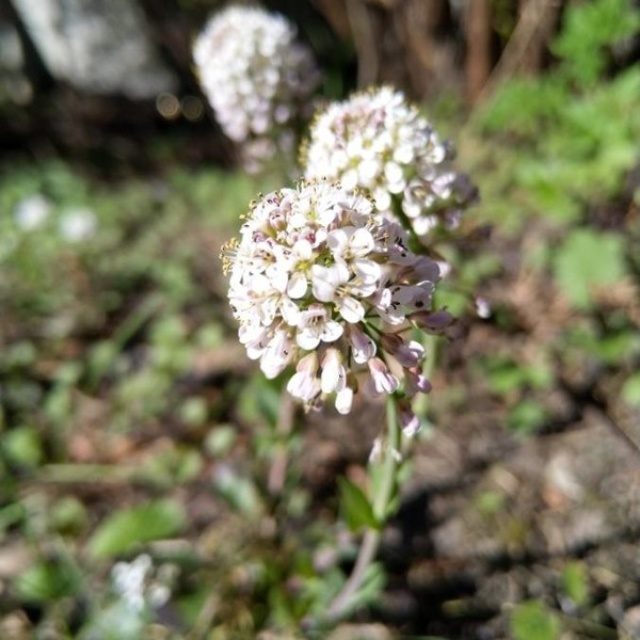obstacle: (213, 70, 505, 446)
